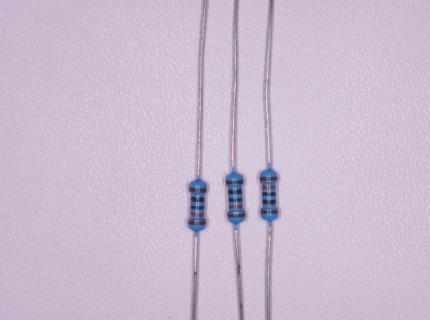Black band: (191, 196, 205, 203), (262, 199, 276, 205), (228, 189, 242, 194), (262, 192, 276, 197), (190, 205, 204, 210), (229, 198, 242, 203)
Brown band: (189, 187, 207, 193), (261, 209, 279, 215), (225, 180, 243, 185), (227, 213, 245, 218), (260, 176, 277, 181), (188, 221, 206, 225)
Orange band: (190, 212, 204, 217), (229, 205, 243, 209), (262, 185, 276, 189)
